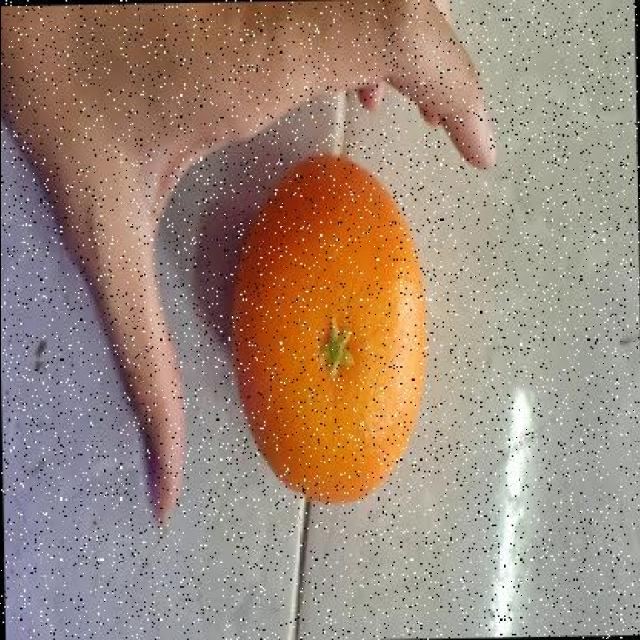Orange: (228, 152, 430, 506)
